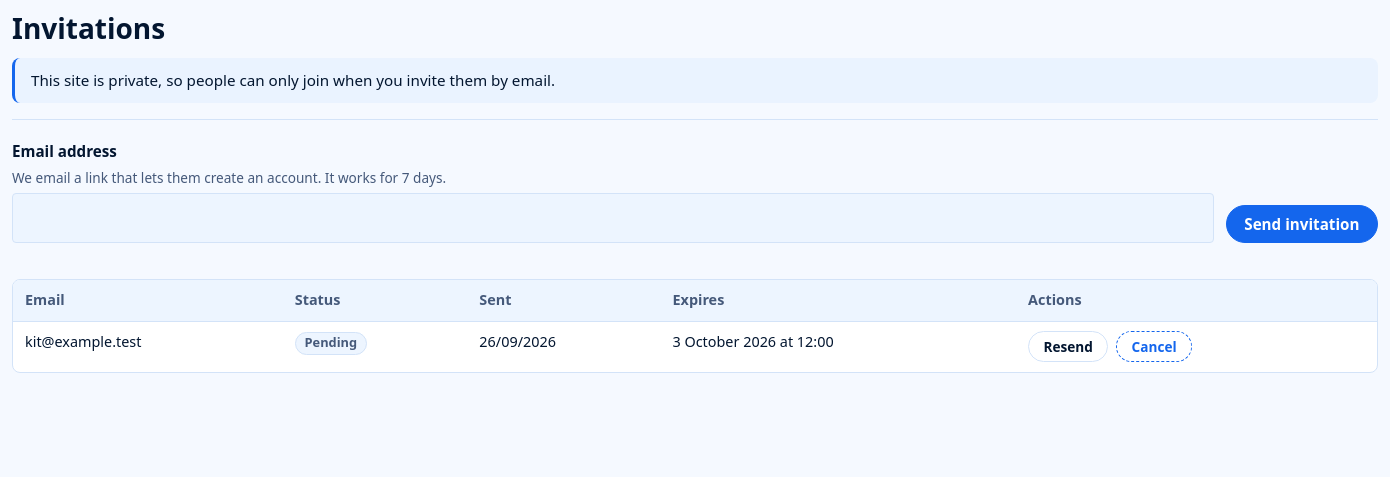
AdminInvitationsPage inviting someone › says what is missing, ties it to the field and moves focus to it, without sending anything
Click the button "Send invitation" at [1302, 224], box left=1226, top=205, right=1378, bottom=243
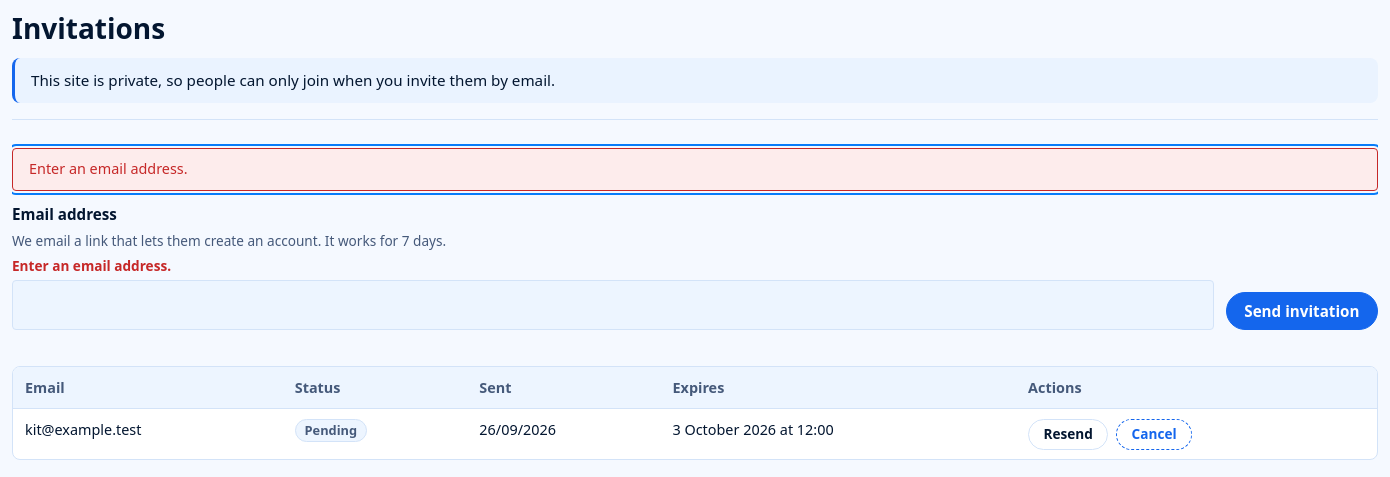
Expected: the message reads "Enter an email address.", left=29, top=159, right=188, bottom=178
